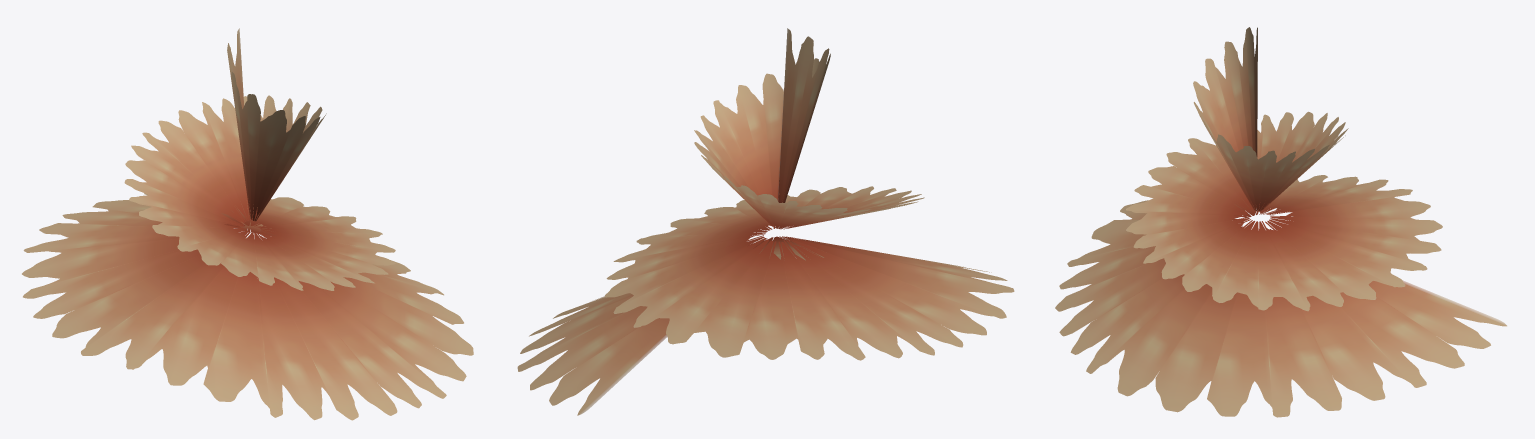
Rendered from CoralWorm_Red.FBX.
The picture shows the model from 3 angles, left to right: view 1: azimuth 30°, elevation 25°; view 2: azimuth 150°, elevation 25°; view 3: azimuth 270°, elevation 25°; orthographic projection. The views are drawn at different scales.
Visible parts, largest first — view 1: CoralWorm_Red; view 2: CoralWorm_Red; view 3: CoralWorm_Red.
Part boxes in pixels (x1,y1,x2,y2): CoralWorm_Red: (22, 28, 473, 420); CoralWorm_Red: (517, 28, 1014, 415); CoralWorm_Red: (1055, 27, 1506, 417).
Size of the model in its own units: 43.65 by 34.85 by 46.68.
